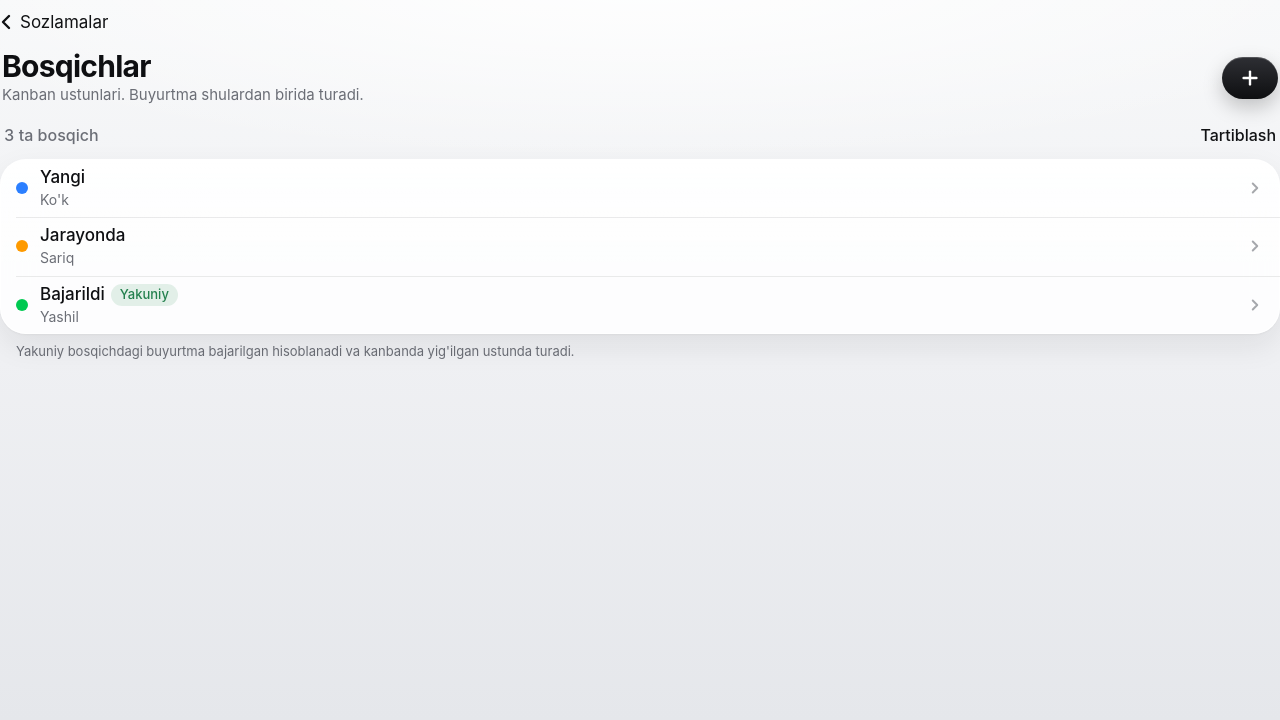
Test: a stage's row opens its sheet: its name, color and final mark come filled in and change
Click the button "Jarayonda Sariq" at (83, 235), box [0,217,1279,276]
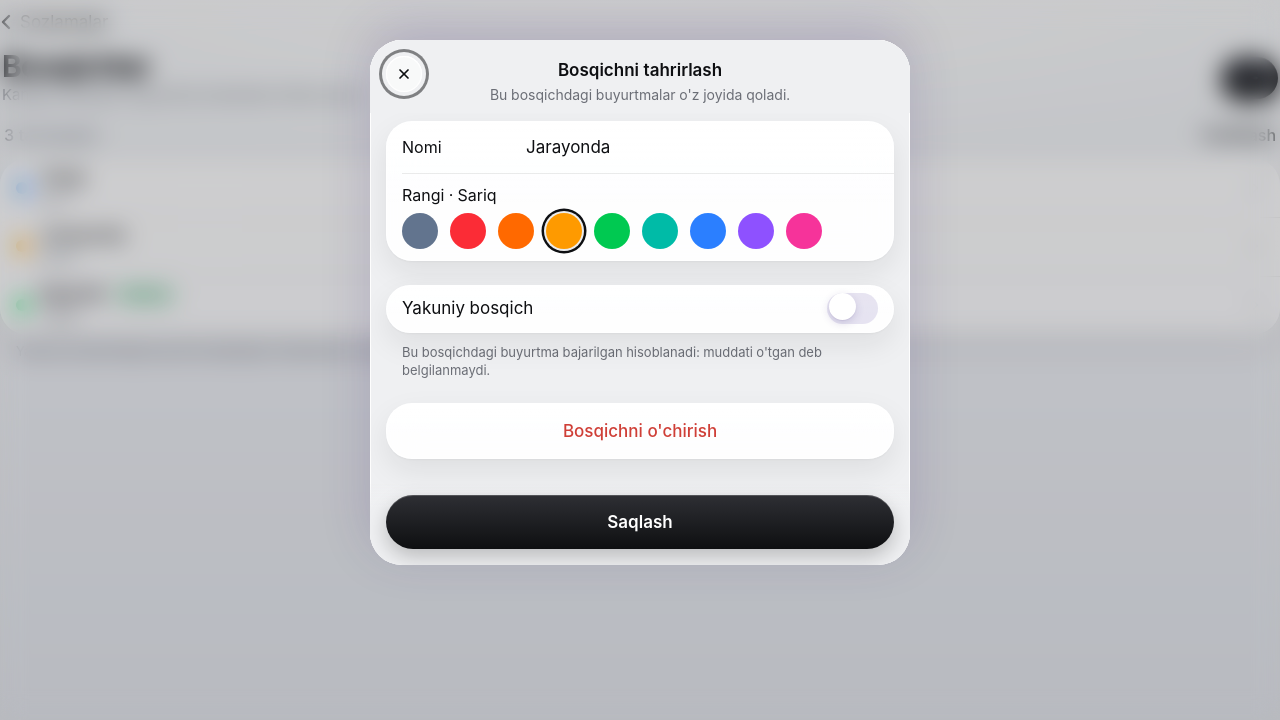
Result: the field labelled "Nomi" holds "Jarayonda"
Result: the radio button named "Sariq" is checked at [546,212,582,248]
Result: the switch named "Yakuniy bosqich" is not checked at [827,293,878,324]
Replace the text in the field labelled "Nomi" with "Ishda" at (702, 146), box [526,124,878,168]
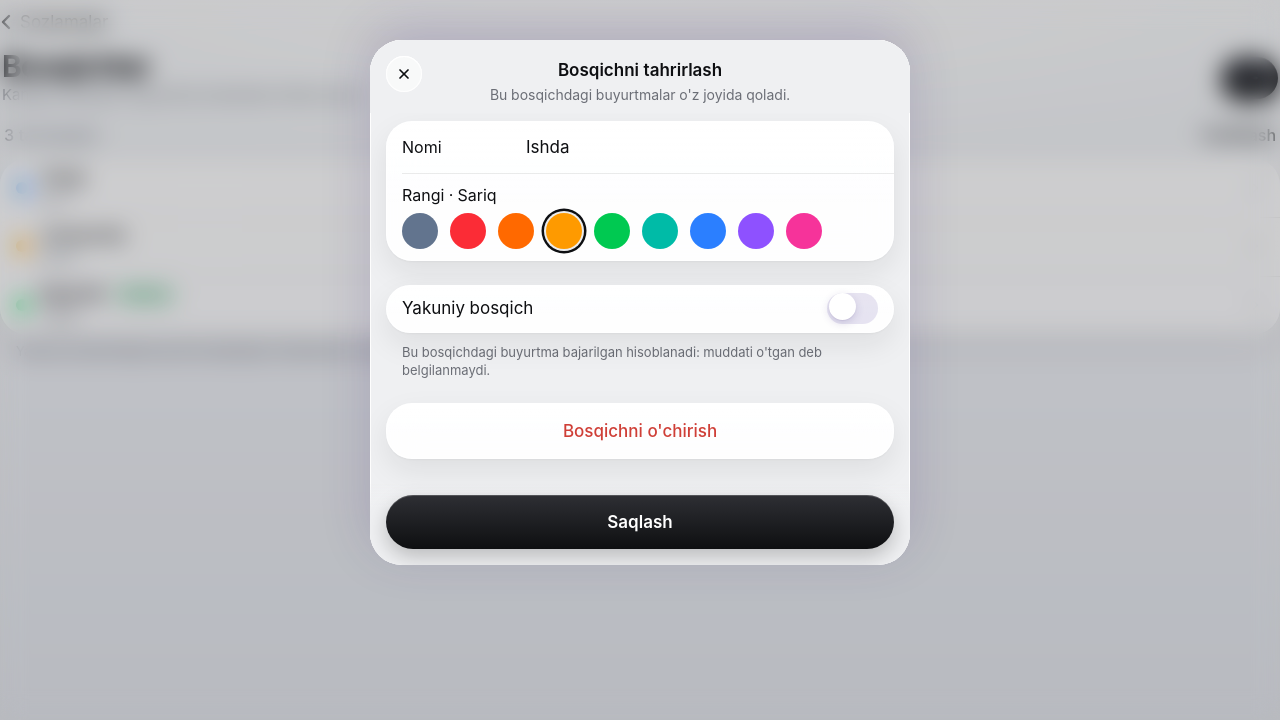
Click the radio button named "Binafsha" at (756, 230), box [738,212,774,248]
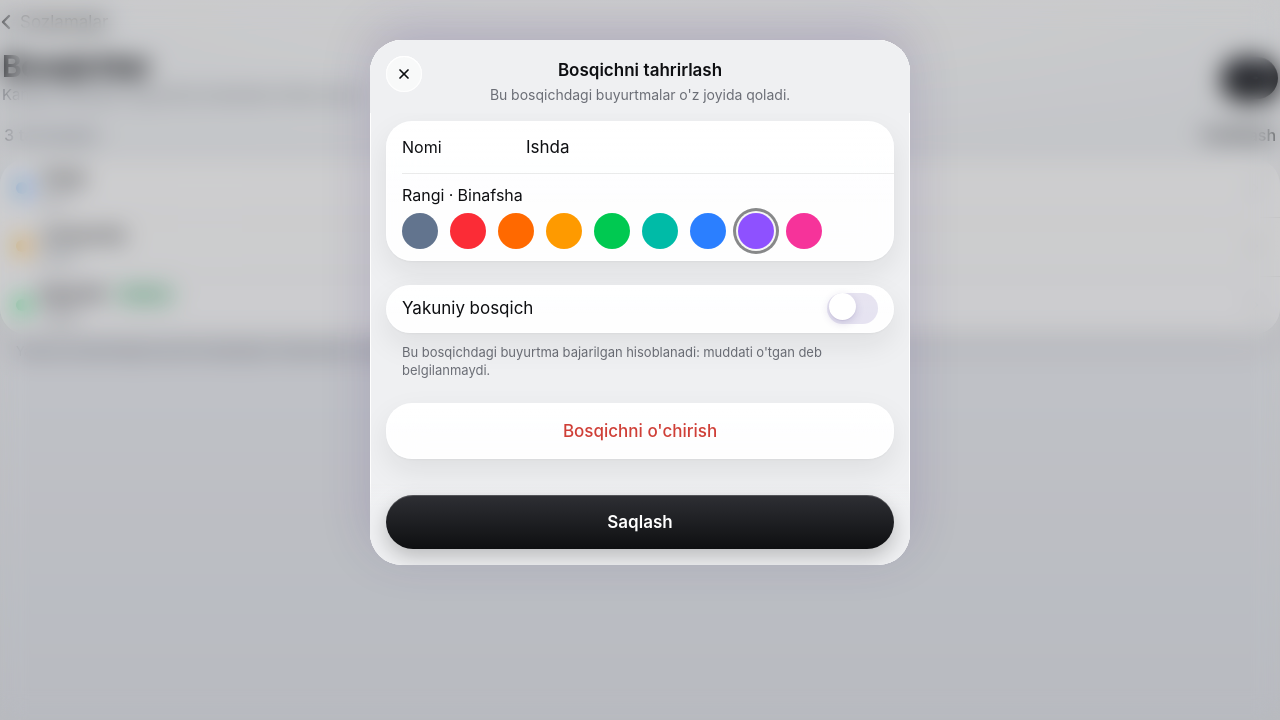
Click the switch named "Yakuniy bosqich" at (852, 308), box [827,293,878,324]
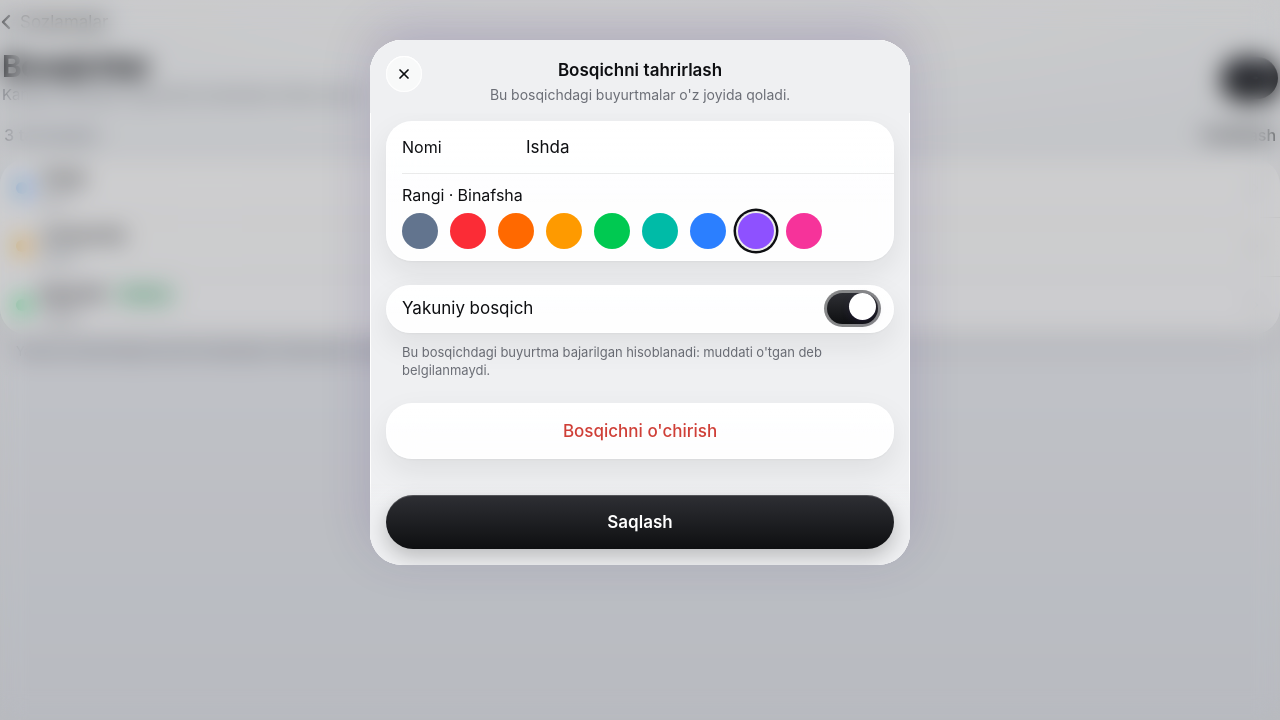
Click the button "Saqlash" at (640, 522), box [386,495,894,549]
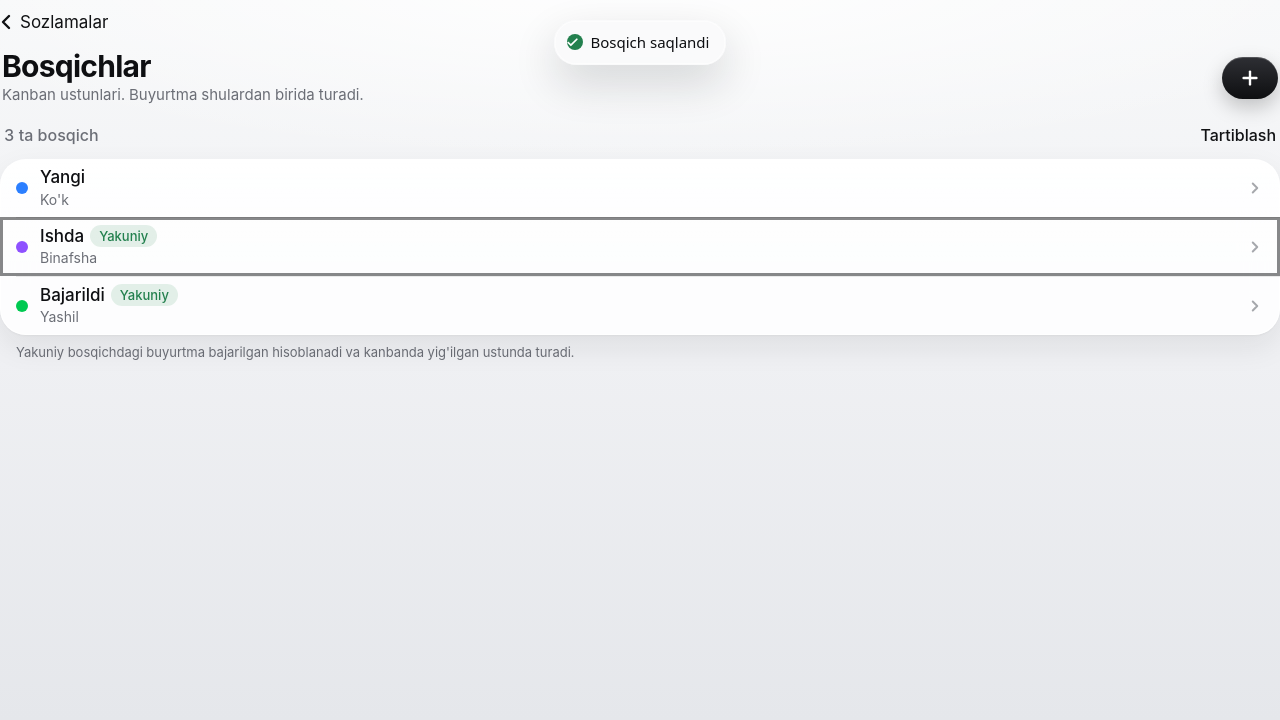
Result: the dialog is gone
Result: the text "Bosqich saqlandi" is shown at [590,31,710,54]
